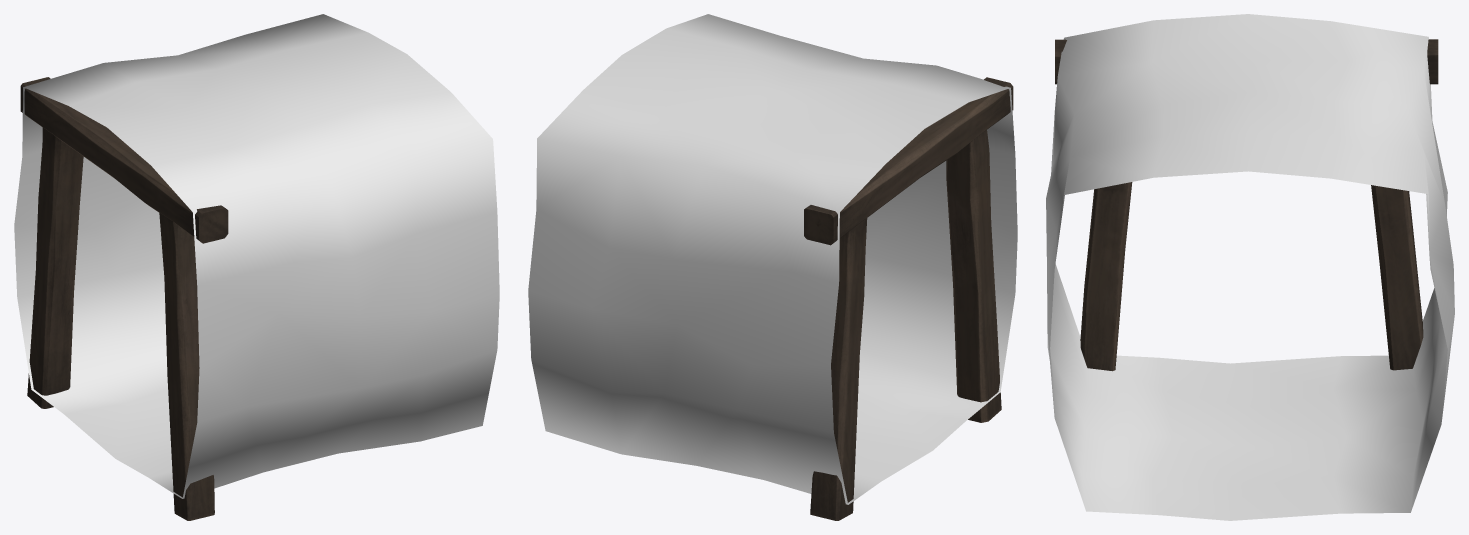
The model's file is SplineAndWood_New.fbx.
The picture shows the model from 3 angles, left to right: view 1: azimuth 30°, elevation 25°; view 2: azimuth 150°, elevation 25°; view 3: azimuth 270°, elevation 25°; orthographic projection. The views are drawn at different scales.
Parts seen in each view (by area): view 1: Spline_New_Wood; view 2: Spline_New_Wood; view 3: Spline_New_Wood.
Boxes of the visible parts, <box> form: Spline_New_Wood: <box>14,14,499,520</box>; Spline_New_Wood: <box>528,14,1017,520</box>; Spline_New_Wood: <box>1046,14,1454,520</box>.
Bounding box in the file's own units: 306 × 332 × 336.
